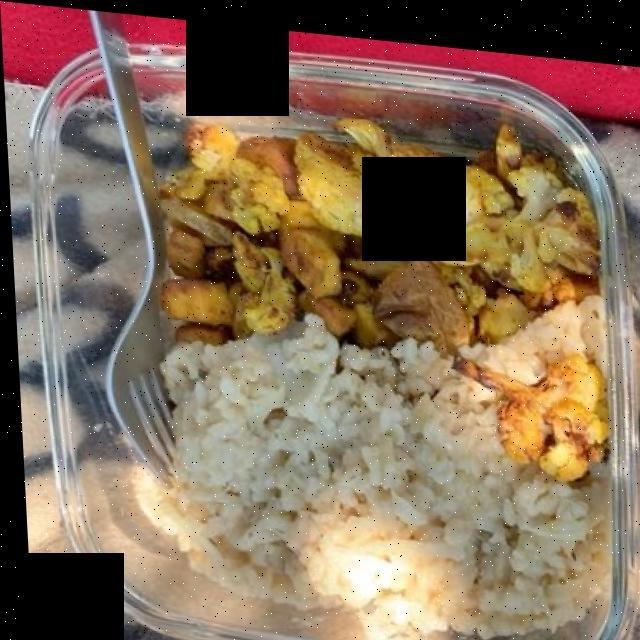cauliflower: (178, 111, 605, 468)
risotto: (119, 285, 612, 611)
tofu: (153, 134, 478, 336)
